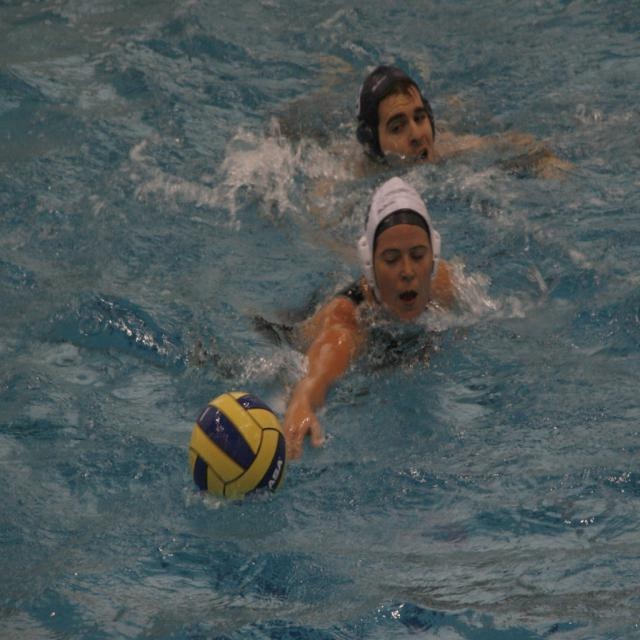football: (181, 383, 292, 512)
